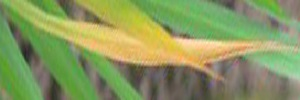RiceTungro: (69, 23, 291, 67)
